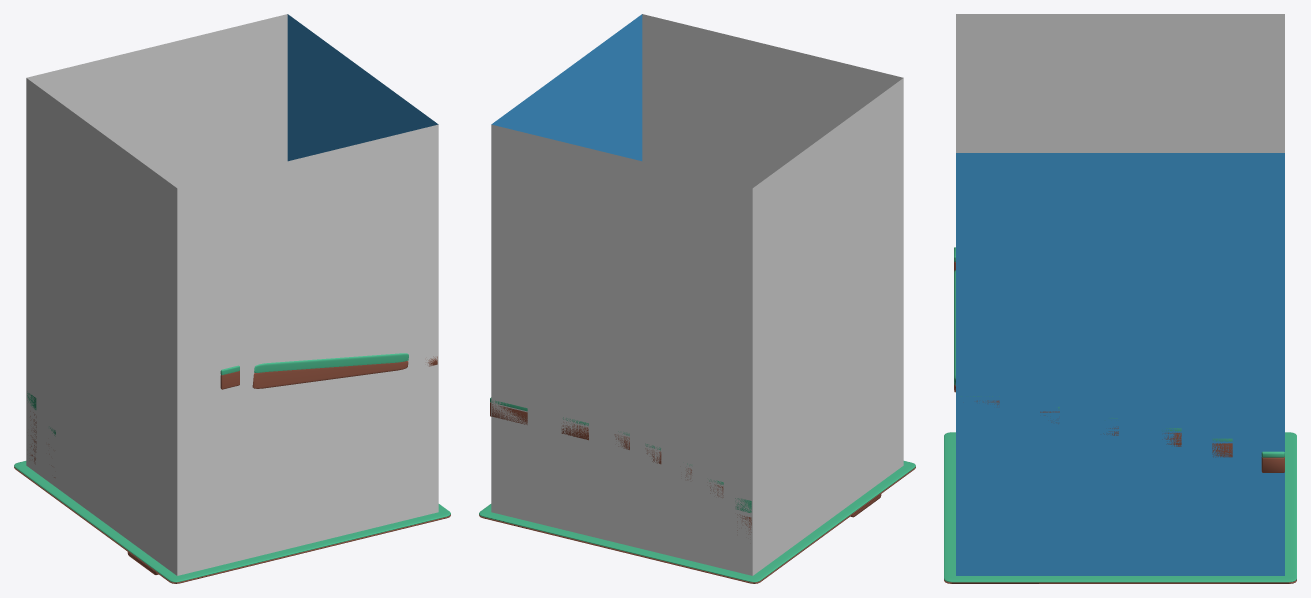
3 renders of one model, left to right at view 1: azimuth 30°, elevation 25°; view 2: azimuth 150°, elevation 25°; view 3: azimuth 270°, elevation 25°, orthographic. The views are drawn at different scales.
Visible parts, largest first — view 1: Plane.003, Plane.002, Plane.001, Plane.004, tileLarge_forest, tileSlopeLowMedium_forest.001; view 2: Plane.001, Plane.002, Plane.003, Plane.004, tileLarge_forest, tileHigh_forest.006; view 3: Plane.004, Plane.002, tileLarge_forest, tileHigh_forest.006.
Part boxes in pixels (bbox=[...]): Plane.003: bbox=[177, 124, 438, 575]; Plane.002: bbox=[26, 78, 177, 575]; Plane.001: bbox=[26, 14, 287, 188]; Plane.004: bbox=[287, 14, 438, 161]; tileLarge_forest: bbox=[14, 461, 450, 583]; tileSlopeLowMedium_forest.001: bbox=[252, 353, 408, 388]; Plane.001: bbox=[491, 124, 752, 575]; Plane.002: bbox=[752, 78, 903, 575]; Plane.003: bbox=[642, 14, 903, 188]; Plane.004: bbox=[491, 14, 642, 161]; tileLarge_forest: bbox=[479, 461, 915, 583]; tileHigh_forest.006: bbox=[490, 397, 527, 424]; Plane.004: bbox=[956, 153, 1284, 575]; Plane.002: bbox=[956, 14, 1284, 152]; tileLarge_forest: bbox=[944, 432, 1296, 583]; tileHigh_forest.006: bbox=[1261, 451, 1284, 472].
Bounding box in the file's own units: 9000 × 12400 × 9000.
